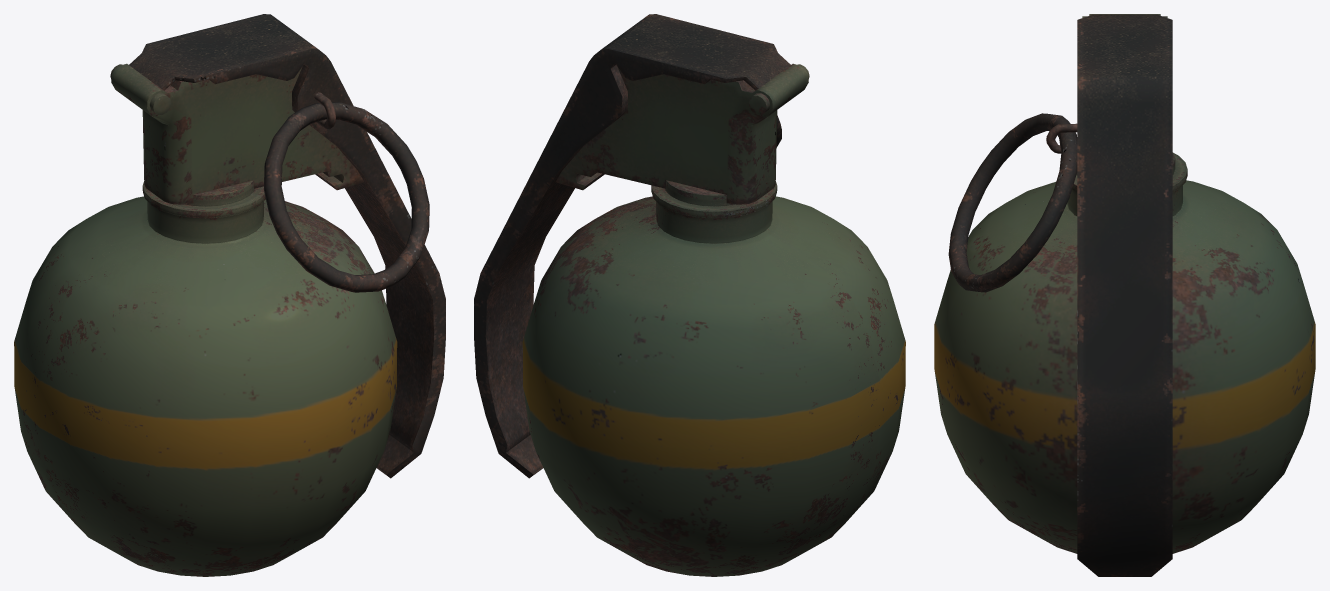
The model's file is grenade.glb.
3 views of the same model, side by side, from view 1: azimuth 30°, elevation 25°; view 2: azimuth 150°, elevation 25°; view 3: azimuth 270°, elevation 25° (orthographic).
Visible parts, largest first — view 1: grenade_1, ring; view 2: grenade_1; view 3: grenade_1, ring.
Part boxes in pixels (x1,y1,x2,y2): grenade_1: (14,14,445,576); ring: (264,102,429,292); grenade_1: (474,14,905,576); grenade_1: (934,14,1315,576); ring: (948,113,1077,292).
Bounding box in the file's own units: 13.49 × 17.04 × 11.71.
1 material, 1 textured.
